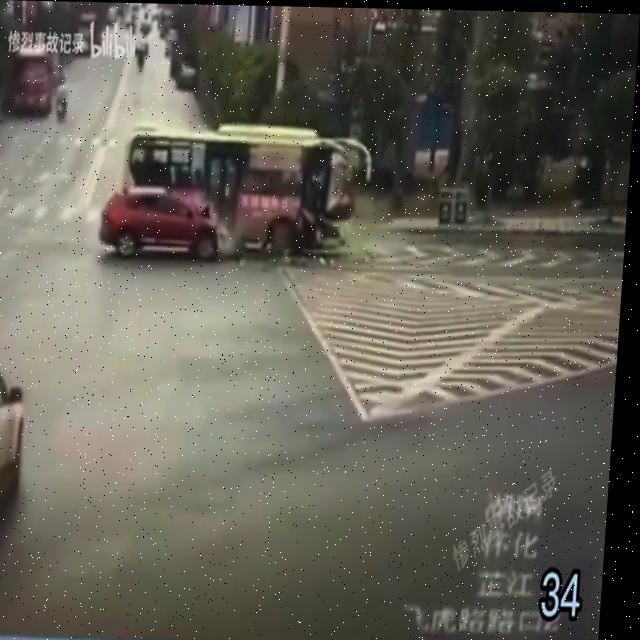multiple_accident: (95, 106, 385, 308)
